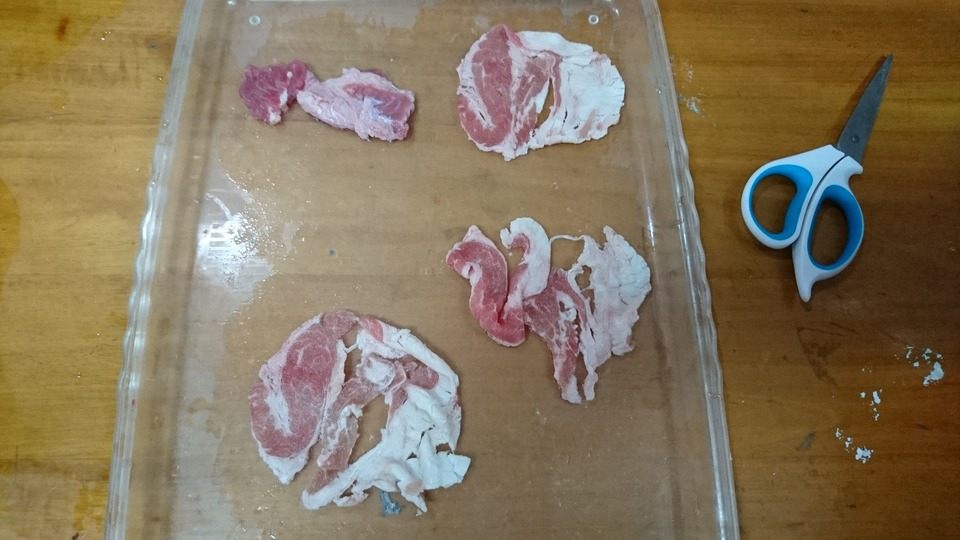restructured meat: (245, 307, 471, 520), (441, 215, 652, 401), (455, 19, 627, 160), (238, 61, 416, 148)
